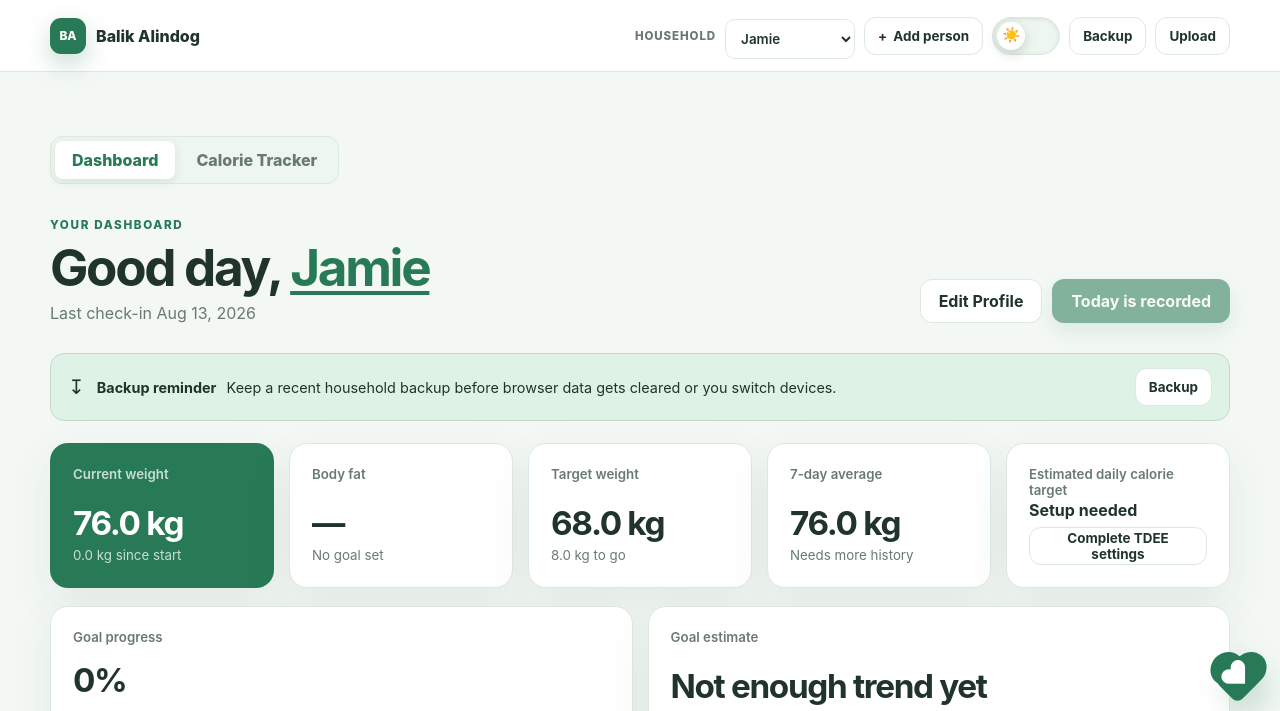
Test case: Balik Alindog Tracker › prompts migrated profiles to complete TDEE settings
Click the button "Complete TDEE settings" at (1118, 546), box [1029,527,1207,565]
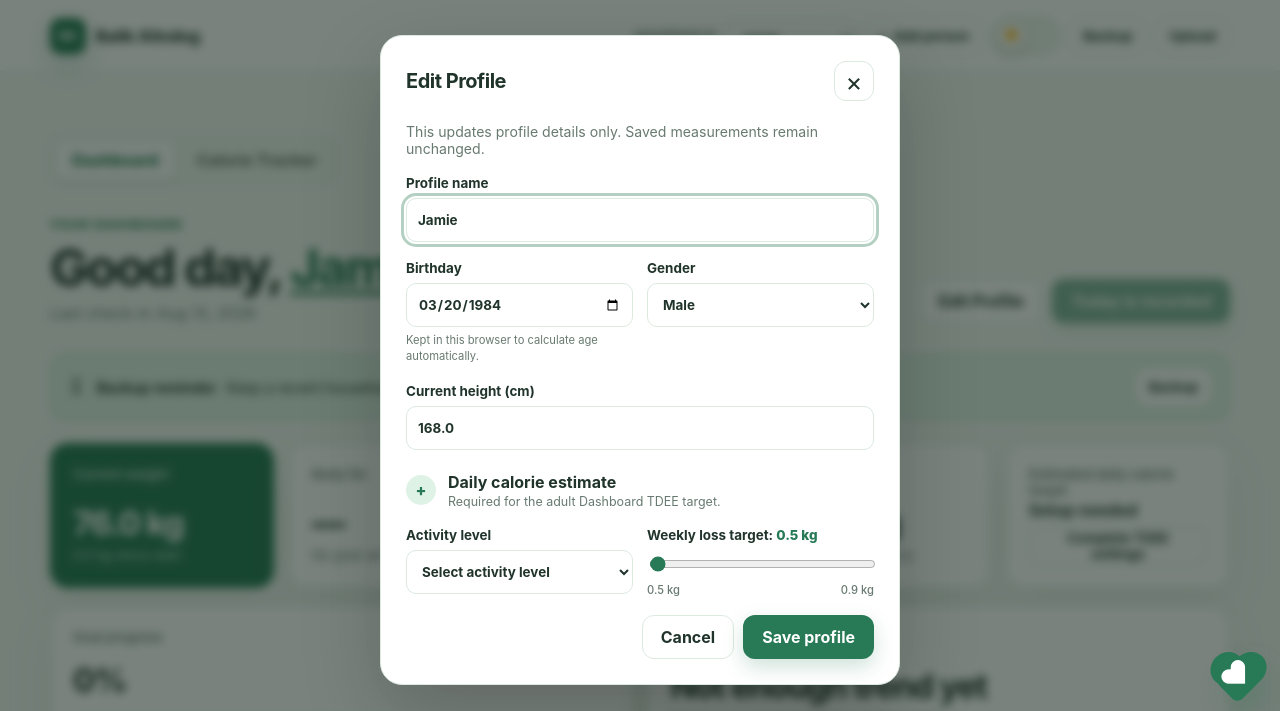
Expected: the dropdown labelled "Activity level" shows "Select activity level", [406,550,633,594]
Expected: the slider named "weekly loss target" holds "0.5", [649,550,876,578]
